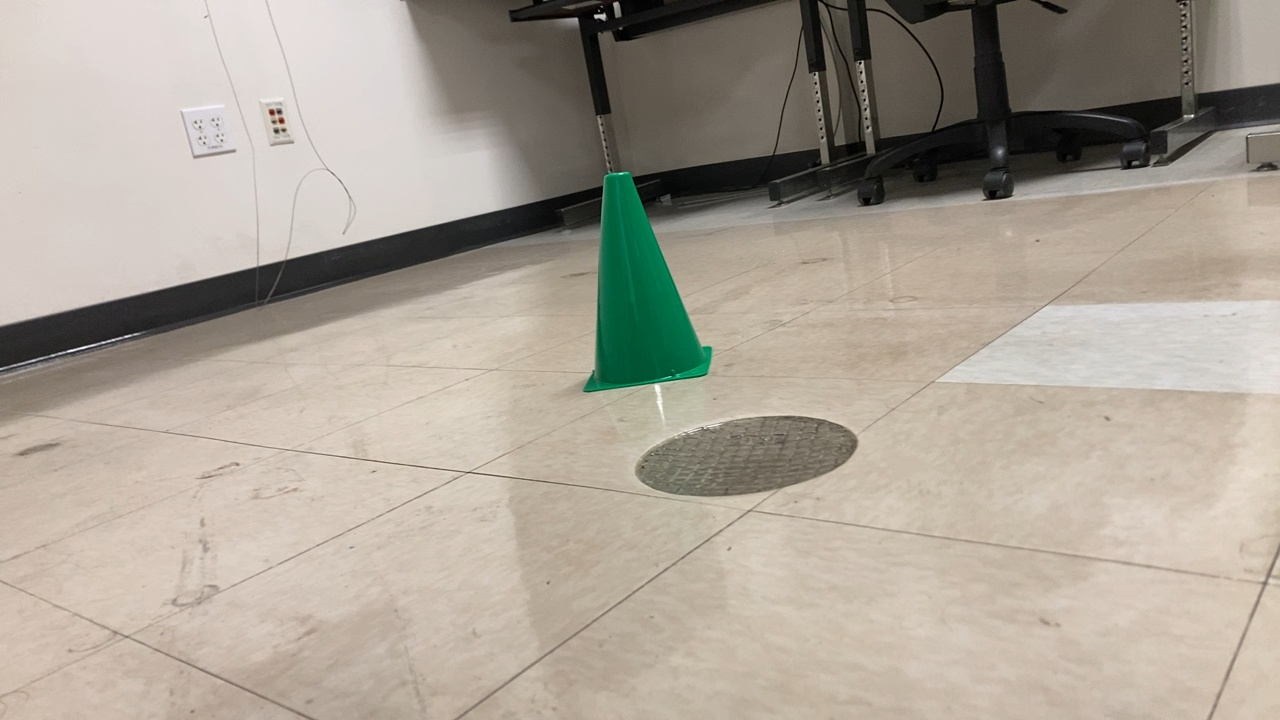green_cone: (578, 164, 719, 395)
